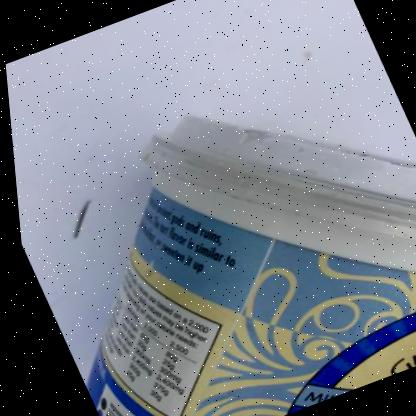Plastic: (79, 115, 416, 416)
